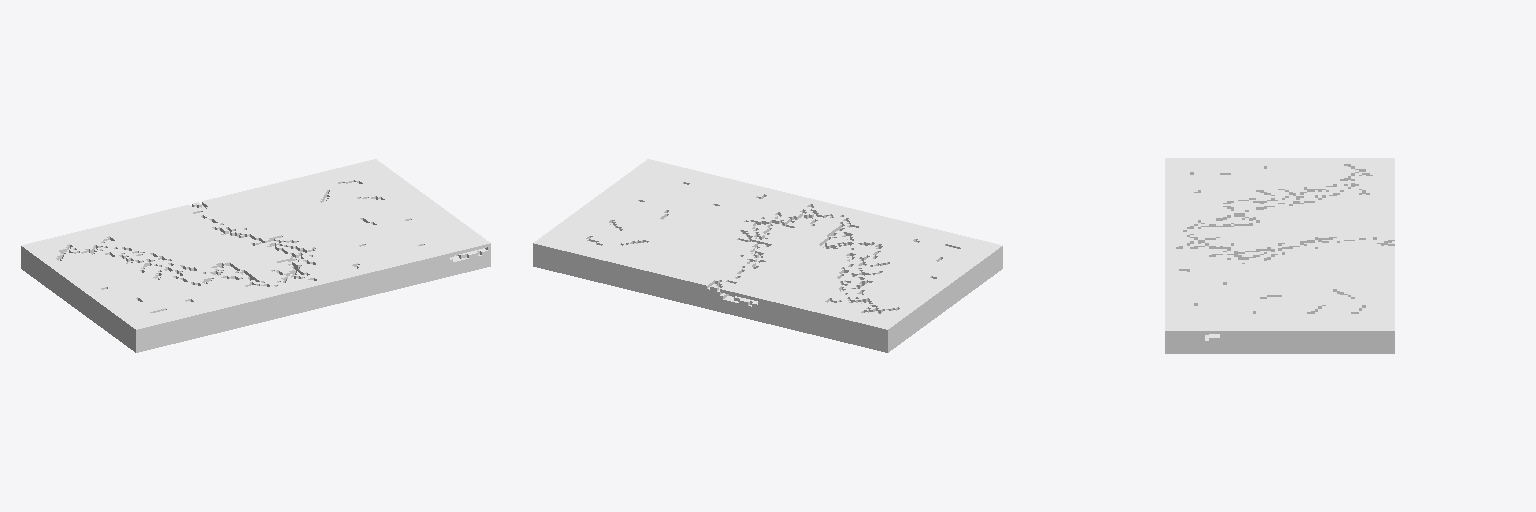
File: big_floors_3.obj
3 views of the same model, side by side, from view 1: azimuth 30°, elevation 25°; view 2: azimuth 150°, elevation 25°; view 3: azimuth 270°, elevation 25° (orthographic).
Bounding box in the file's own units: 112 × 7 × 63.